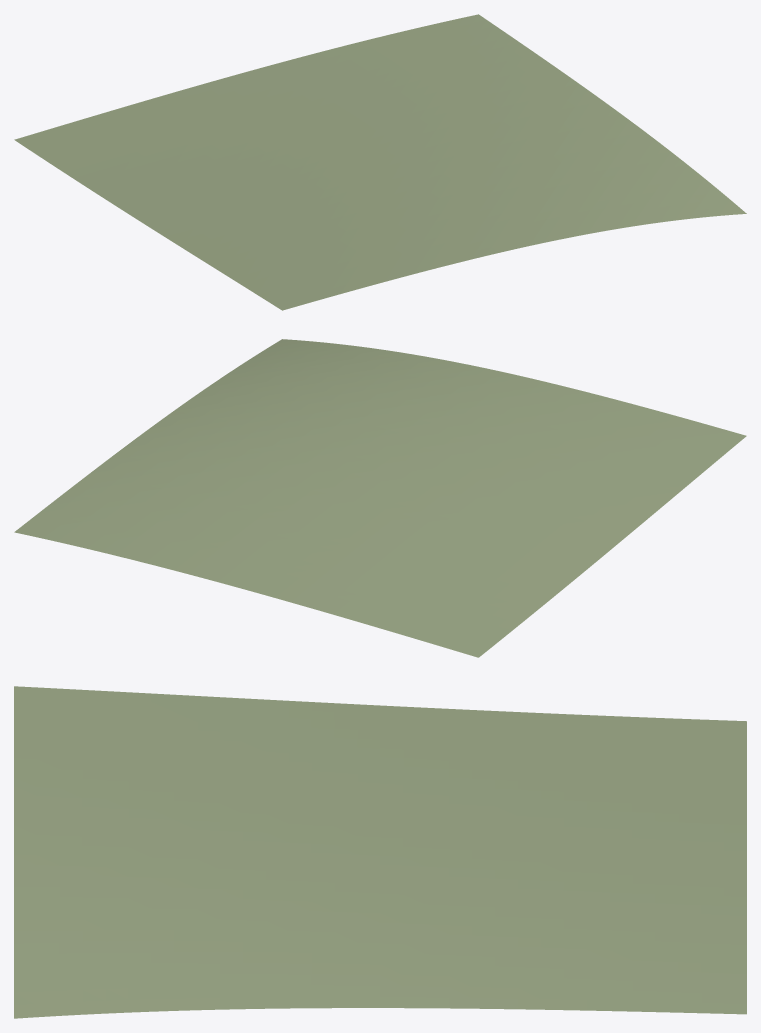
Rendered from expanse-6-23.glb.
3 views of the same model, one above another, from view 1: azimuth 30°, elevation 25°; view 2: azimuth 150°, elevation 25°; view 3: azimuth 270°, elevation 25° (orthographic). The views are drawn at different scales.
Parts seen in each view (by area): view 1: expanse-6-23; view 2: expanse-6-23; view 3: expanse-6-23.
Part boxes in pixels (<box>): expanse-6-23: <box>14,14,746,310</box>; expanse-6-23: <box>14,339,746,657</box>; expanse-6-23: <box>14,686,746,1018</box>.
Bounding box in the file's own units: 256 × 16.07 × 256.
